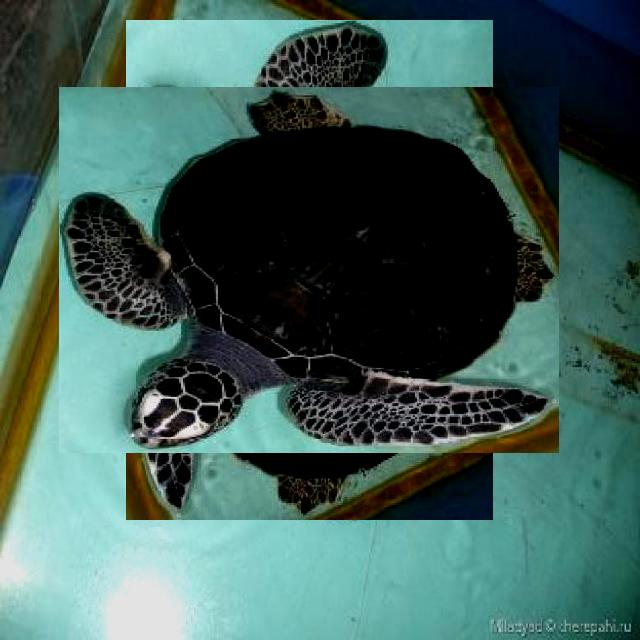Sea turtle: (93, 53, 526, 487)
